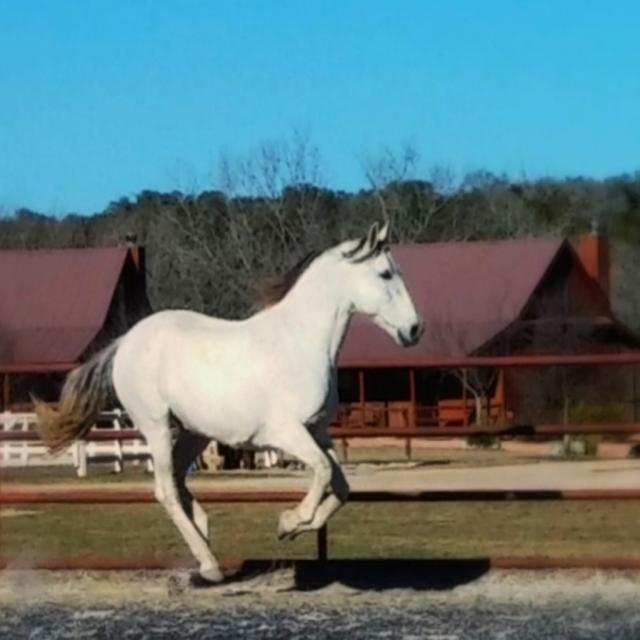Horse: (29, 216, 422, 579)
